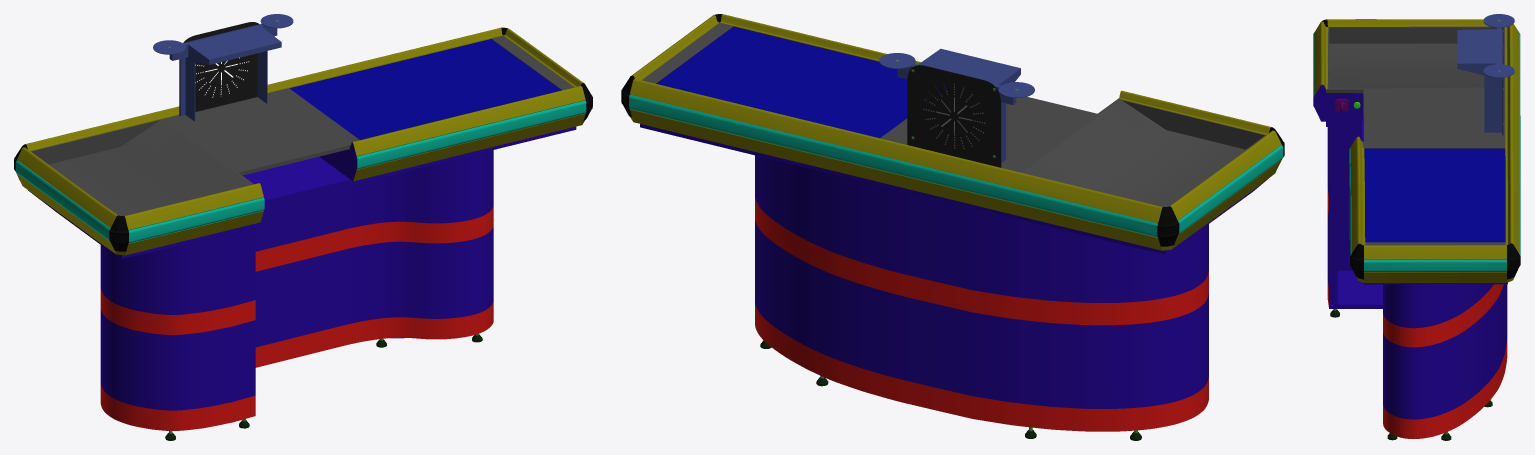
The model's file is cassa.fbx.
3 renders of one model, left to right at view 1: azimuth 30°, elevation 25°; view 2: azimuth 150°, elevation 25°; view 3: azimuth 270°, elevation 25°, orthographic. The views are drawn at different scales.
Visible parts, largest first — view 1: checkout desk 2, checkout desk 1; view 2: checkout desk 2, checkout desk 1; view 3: checkout desk 2, checkout desk 1.
Part boxes in pixels (box(x1,y1,x2,y2)): checkout desk 2: box(15, 27, 586, 430); checkout desk 1: box(14, 14, 592, 440); checkout desk 2: box(629, 14, 1283, 431); checkout desk 1: box(621, 14, 1284, 440); checkout desk 2: box(1313, 19, 1520, 438); checkout desk 1: box(1321, 14, 1520, 440).
Size of the model in its own units: 220 by 133 by 82.37.
